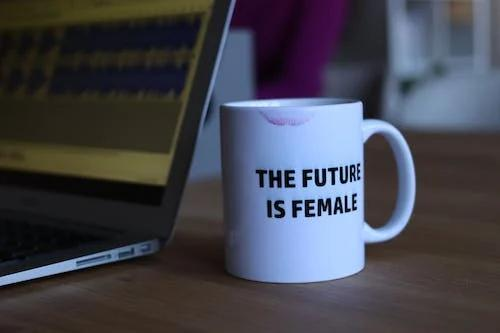Mug: (204, 89, 428, 292)
